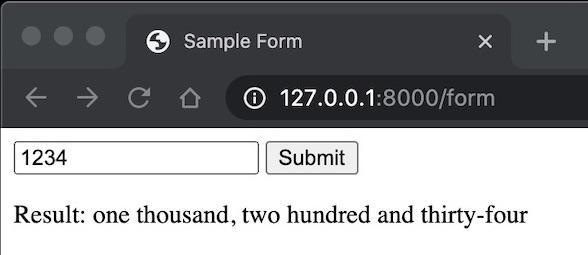button: (266, 142, 359, 175)
icon: (68, 84, 105, 115), (125, 83, 157, 117), (173, 87, 209, 117), (21, 81, 52, 115), (244, 88, 267, 110), (537, 31, 558, 55), (476, 33, 495, 52)
input: (16, 142, 259, 174)
